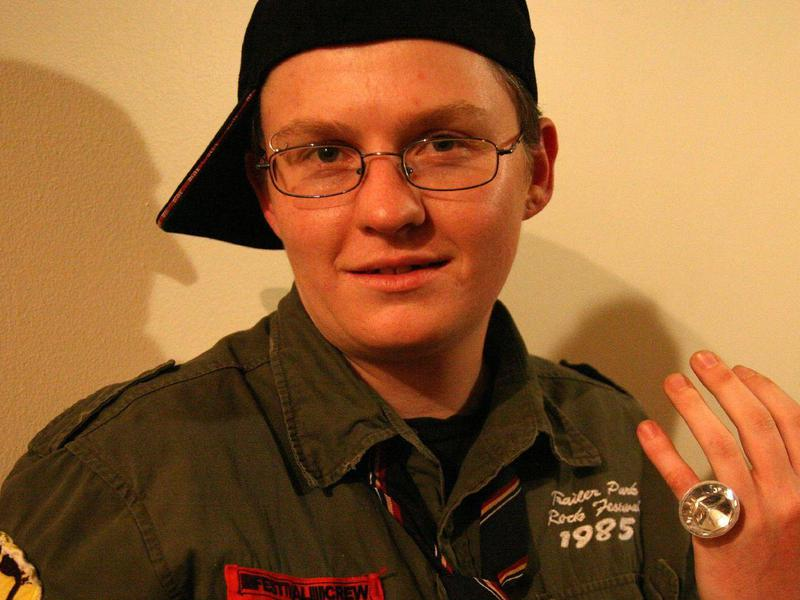person: (5, 2, 702, 599)
